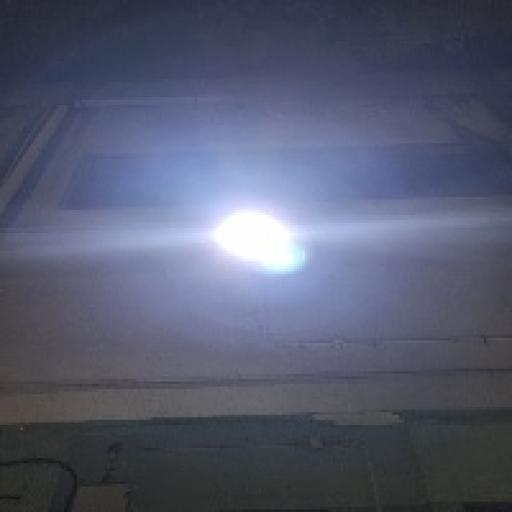Working: (200, 202, 317, 280)
